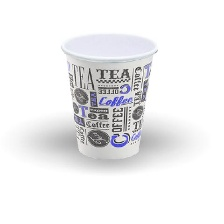paper_cup: (55, 26, 162, 164)
